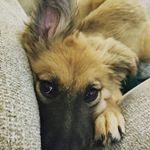puppy: (20, 1, 143, 149)
